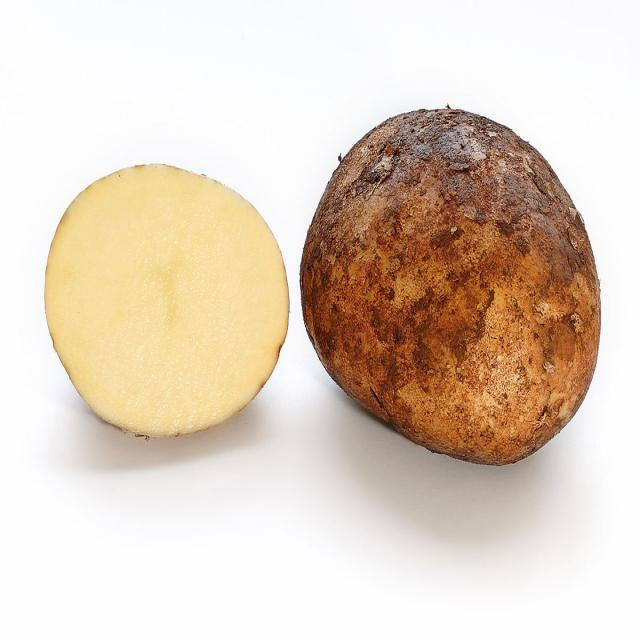potato: (303, 93, 602, 465)
